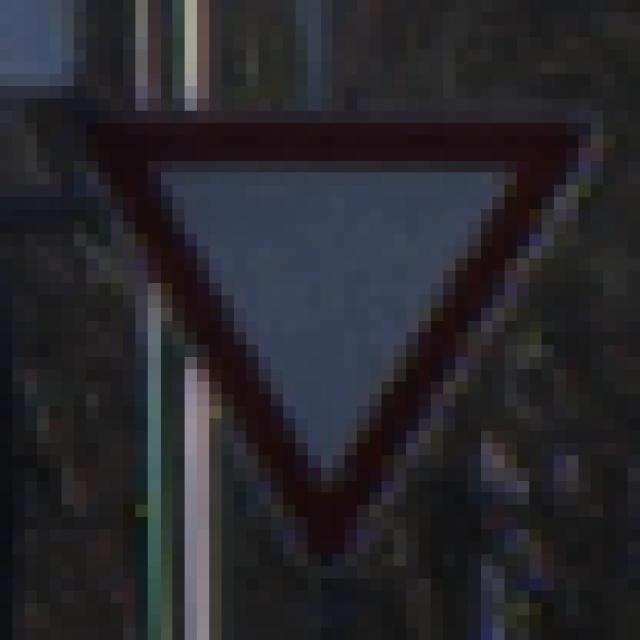Give Way: (75, 75, 579, 579)
